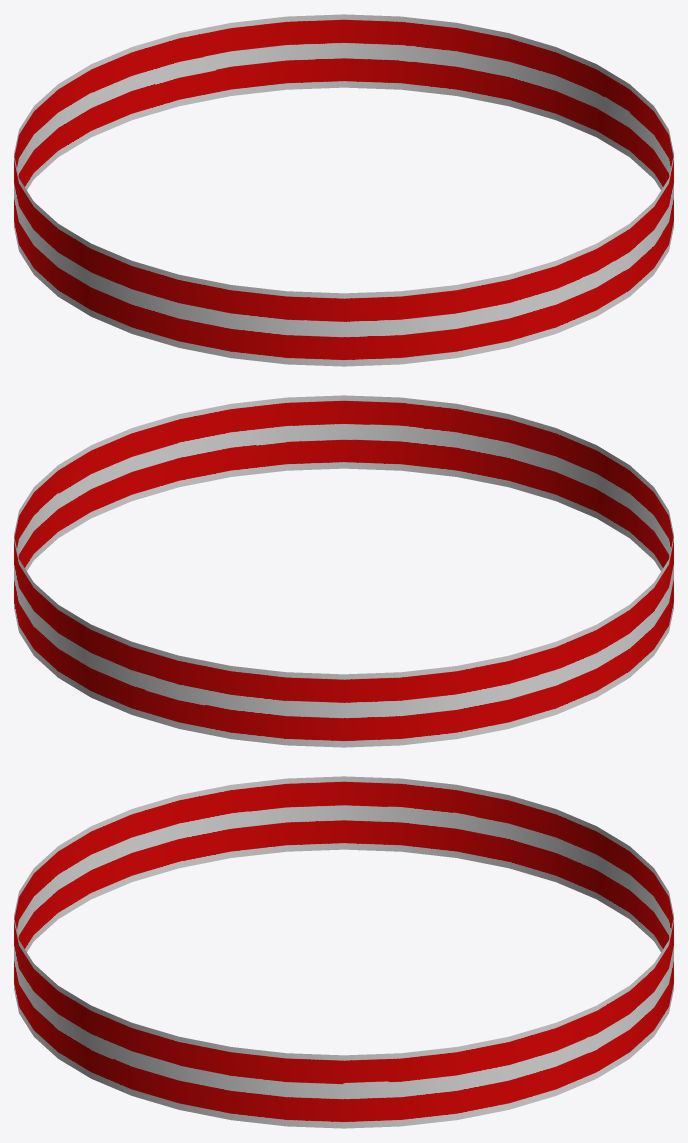
The model's file is gund rop effect.fbx.
3 views of the same model, one above another, from view 1: azimuth 30°, elevation 25°; view 2: azimuth 150°, elevation 25°; view 3: azimuth 270°, elevation 25° (orthographic).
Visible parts, largest first — view 1: Cylinder_1, Cylinder; view 2: Cylinder_1, Cylinder; view 3: Cylinder_1, Cylinder.
Part boxes in pixels (x1,y1,x2,y2): Cylinder_1: (14,14,673,366); Cylinder: (14,14,673,366); Cylinder_1: (14,395,673,747); Cylinder: (14,395,673,747); Cylinder_1: (14,776,673,1128); Cylinder: (14,776,673,1128).
Bounding box in the file's own units: 300 × 36.73 × 300.
1 material, 1 textured.
